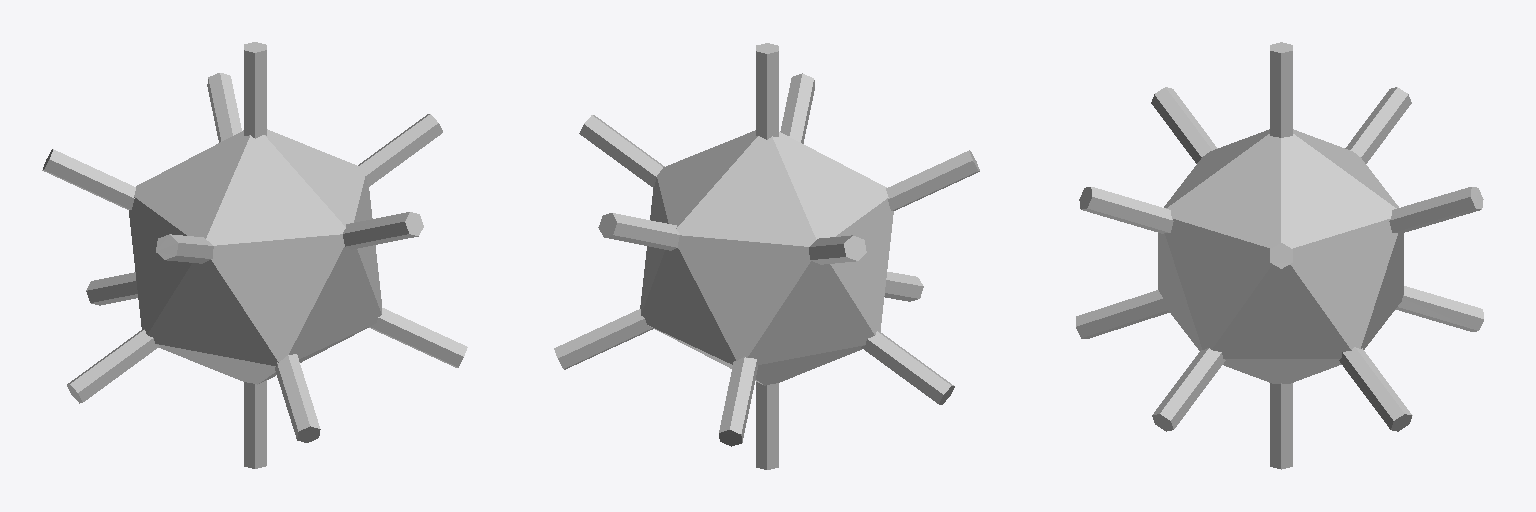
Rendered from MineOBJ.obj.
3 views of the same model, side by side, from view 1: azimuth 30°, elevation 25°; view 2: azimuth 150°, elevation 25°; view 3: azimuth 270°, elevation 25° (orthographic).
Parts seen in each view (by area): view 1: Mine; view 2: Mine; view 3: Mine.
Part boxes in pixels (x1,y1,x2,y2): Mine: (42, 42, 467, 468); Mine: (554, 43, 979, 469); Mine: (1076, 42, 1483, 469).
Size of the model in its own units: 1.13 by 1.21 by 1.08.